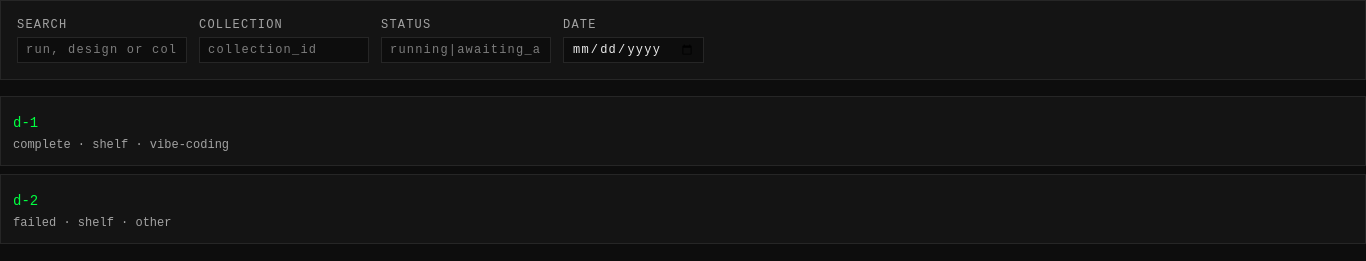
Test: RunsList search and filters › date filter matches the start day
This screenshot has width=1366, height=261.
Type "2026-09-15" into the date field labelled "Date".
click(634, 50); type("2026-09-15")  # box [563,37,704,63]
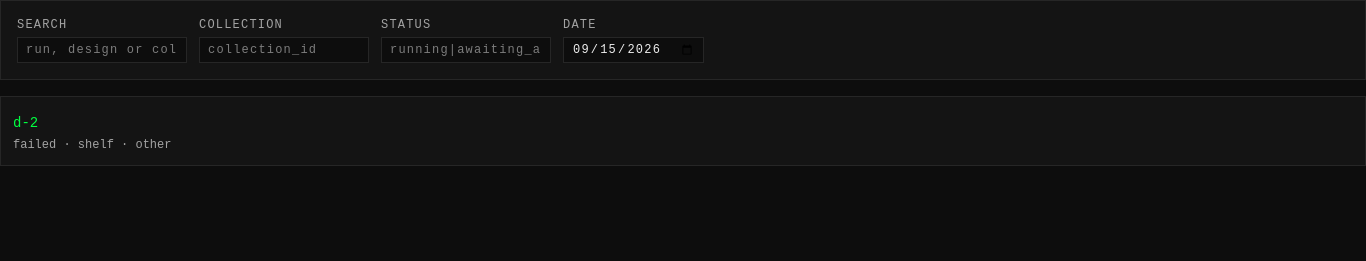
Expected: the link "d-2" is shown, [13,115,38,131]
Expected: the link "d-1" is gone
